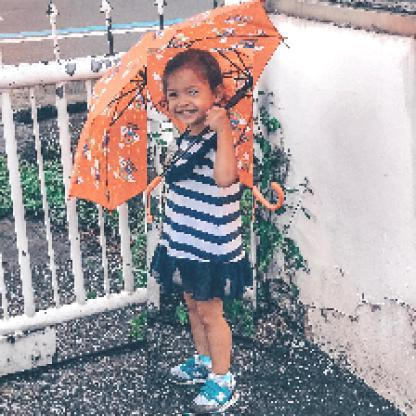child: (148, 49, 255, 415)
